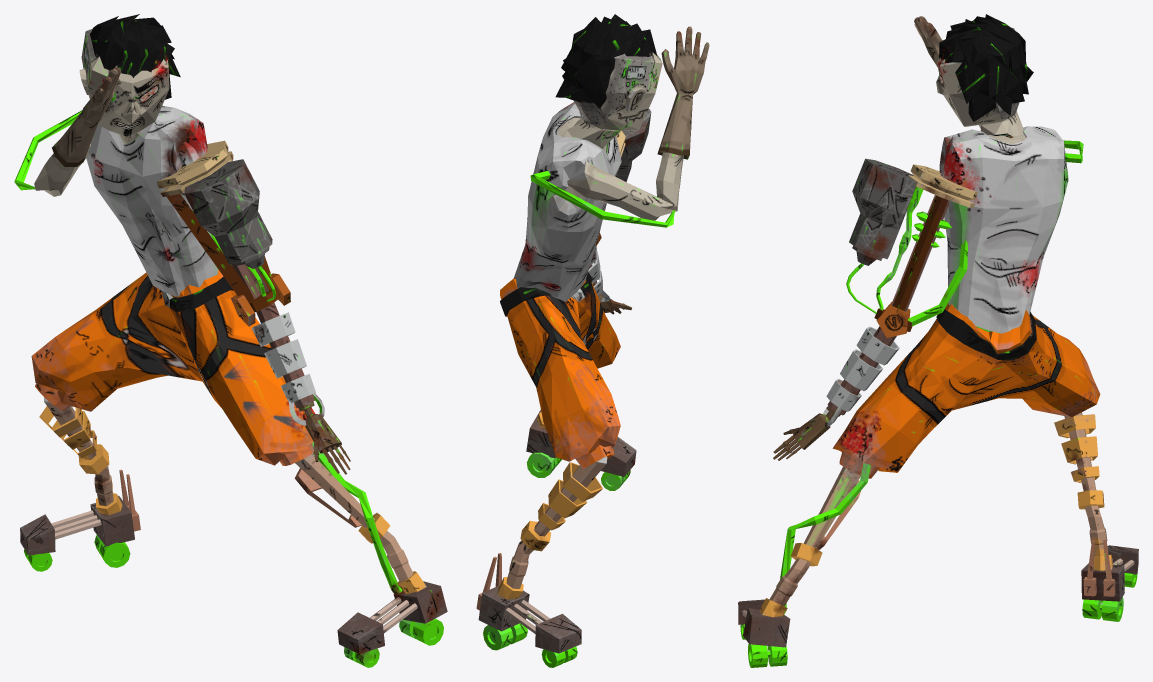
Rendered from CyborgFINALAnimation_000063.obj.
The picture shows the model from 3 angles, left to right: view 1: azimuth 30°, elevation 25°; view 2: azimuth 150°, elevation 25°; view 3: azimuth 270°, elevation 25°; orthographic projection. The views are drawn at different scales.
Visible parts, largest first — view 1: CyborgMesh_Cube.002; view 2: CyborgMesh_Cube.002; view 3: CyborgMesh_Cube.002.
Part boxes in pixels (<box>): CyborgMesh_Cube.002: <box>14,14,447,667</box>; CyborgMesh_Cube.002: <box>476,14,709,667</box>; CyborgMesh_Cube.002: <box>738,14,1138,667</box>.
Bounding box in the file's own units: 4.24 × 8.63 × 5.44.
